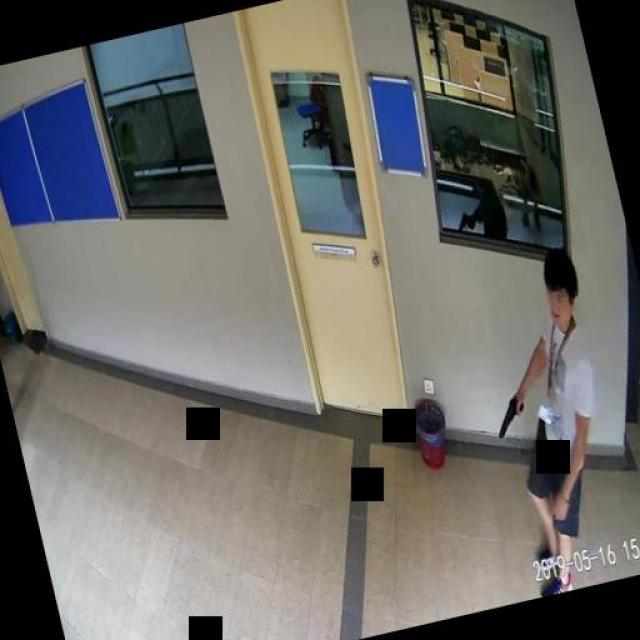gun: (489, 392, 529, 436)
